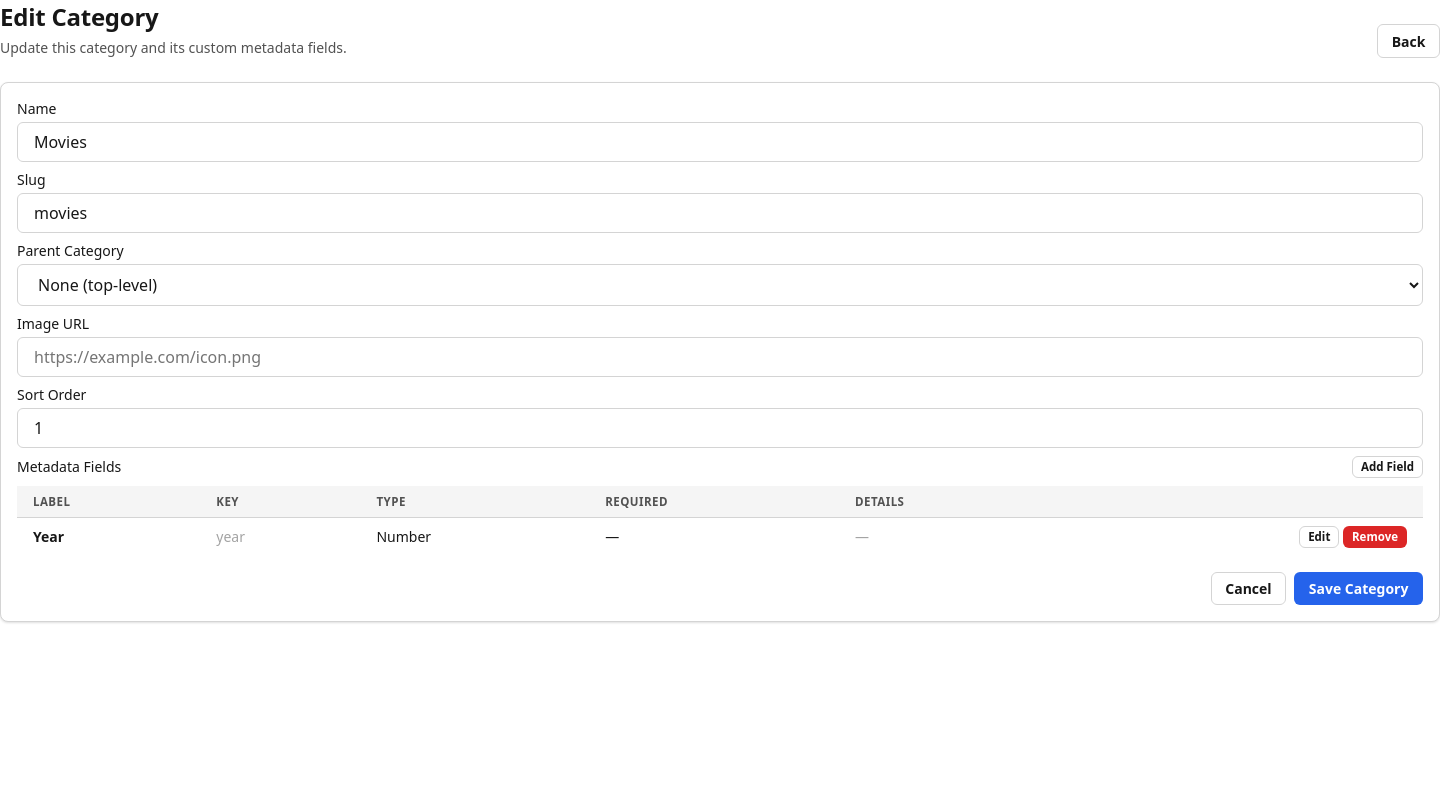
Test case: AdminCategoryEditPage › adds a metadata field and saves it via PUT
Expected: the field labelled "Name" holds "Movies", [17,122,1423,162]
Add a new field through the modal.
Click the button "Add Field": (1388, 467) [1352,456,1423,478]
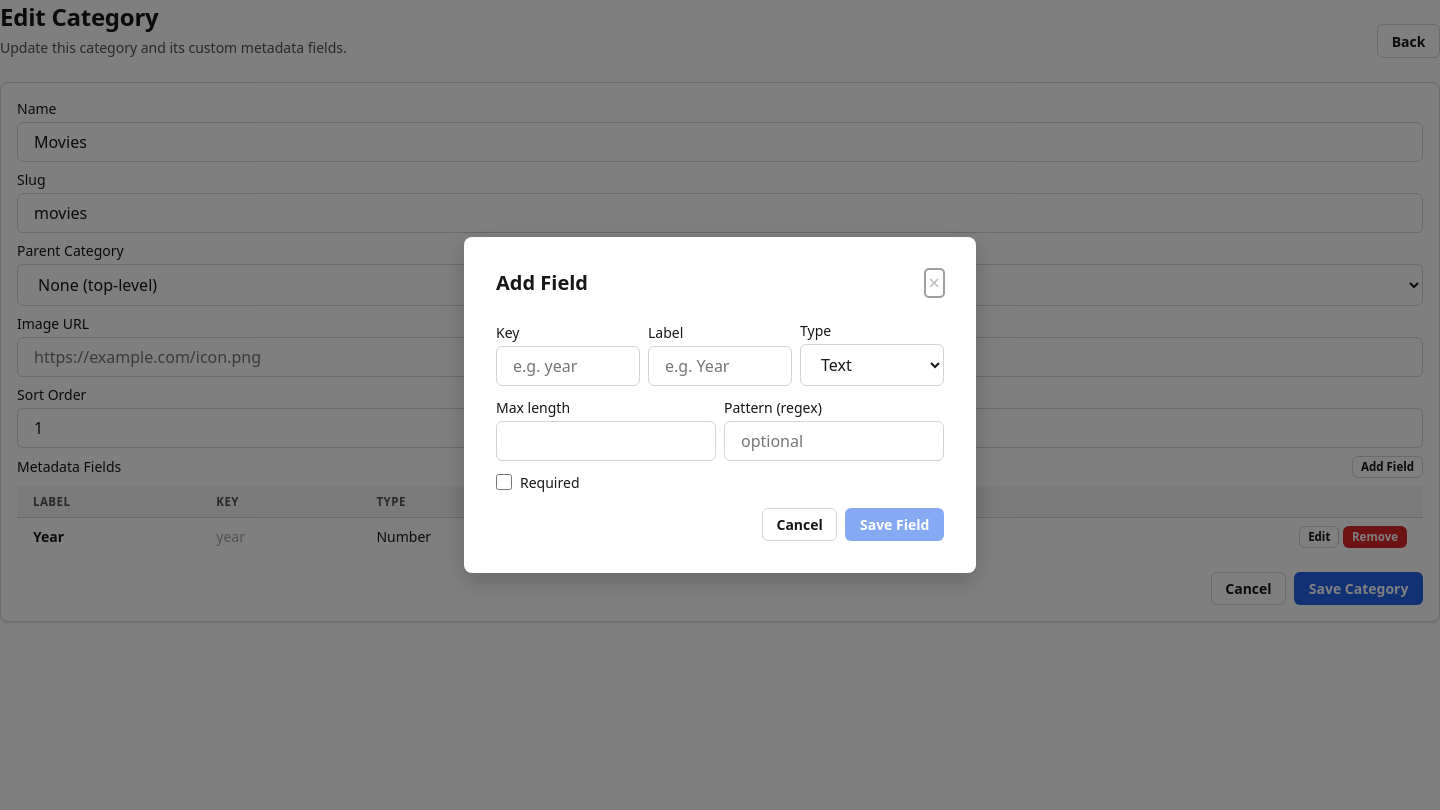
In the field labelled "Key": (568, 366) [496,346,640,386], type "codec"
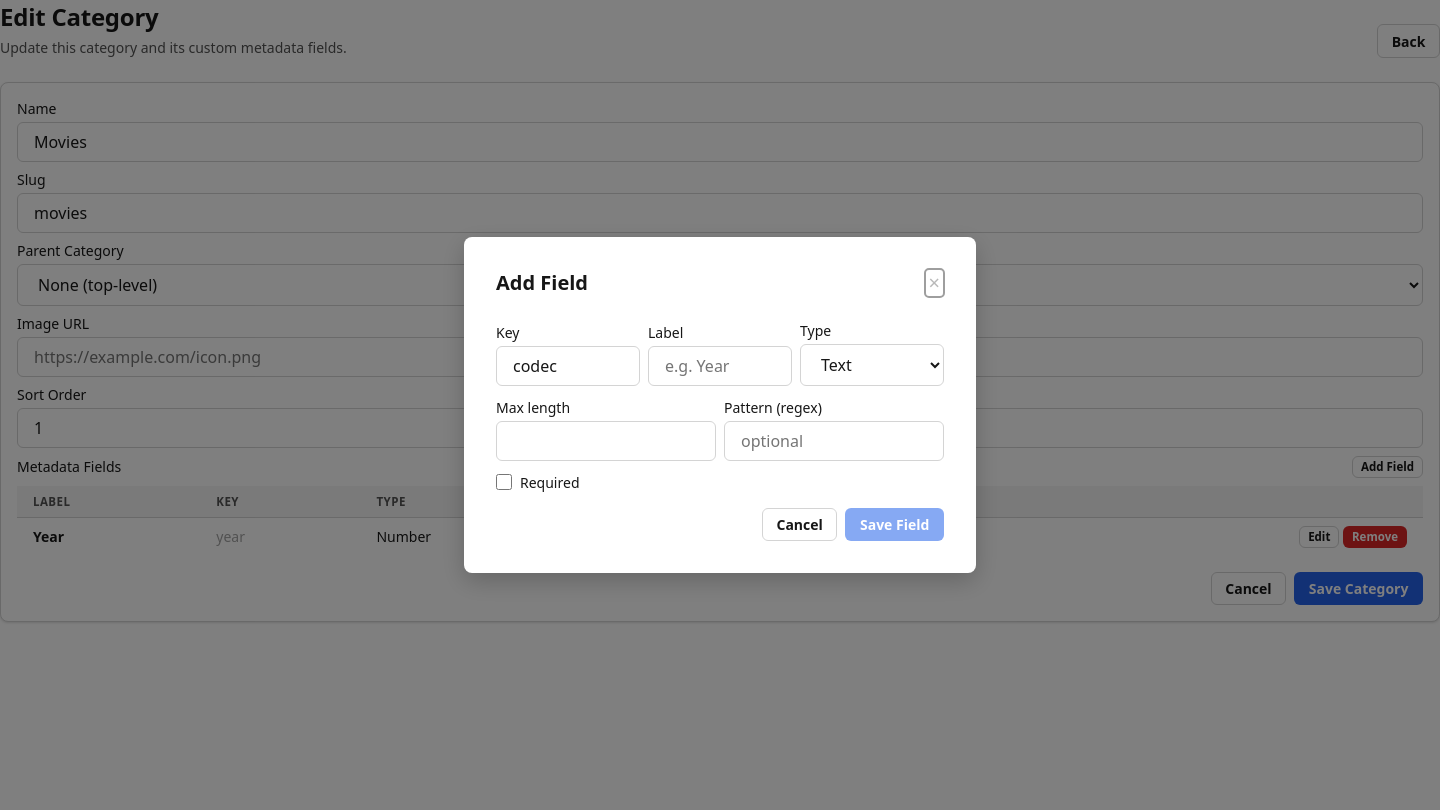
In the field labelled "Label": (720, 366) [648,346,792,386], type "Codec"
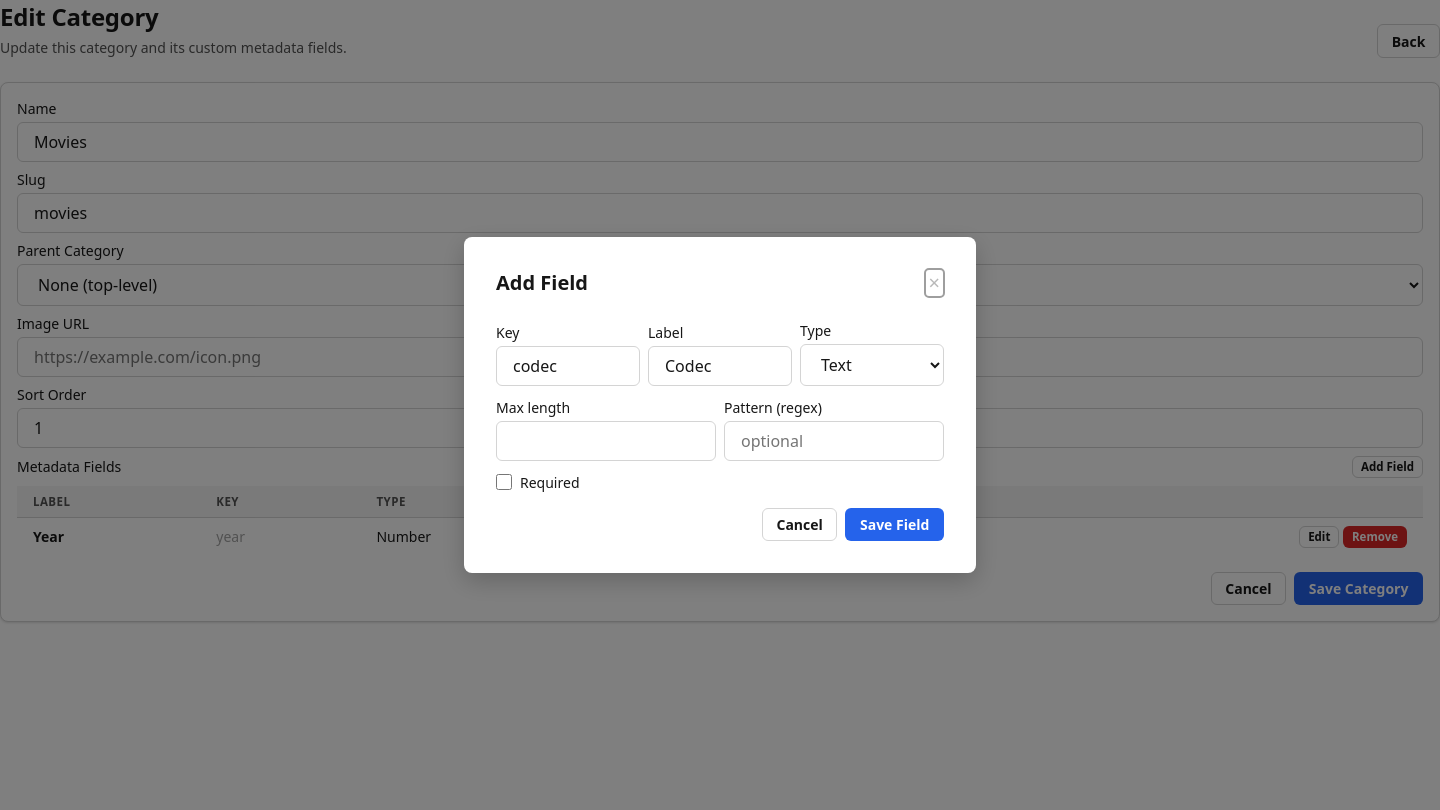
Click the button "Save Field": (895, 524) [845,508,944,541]
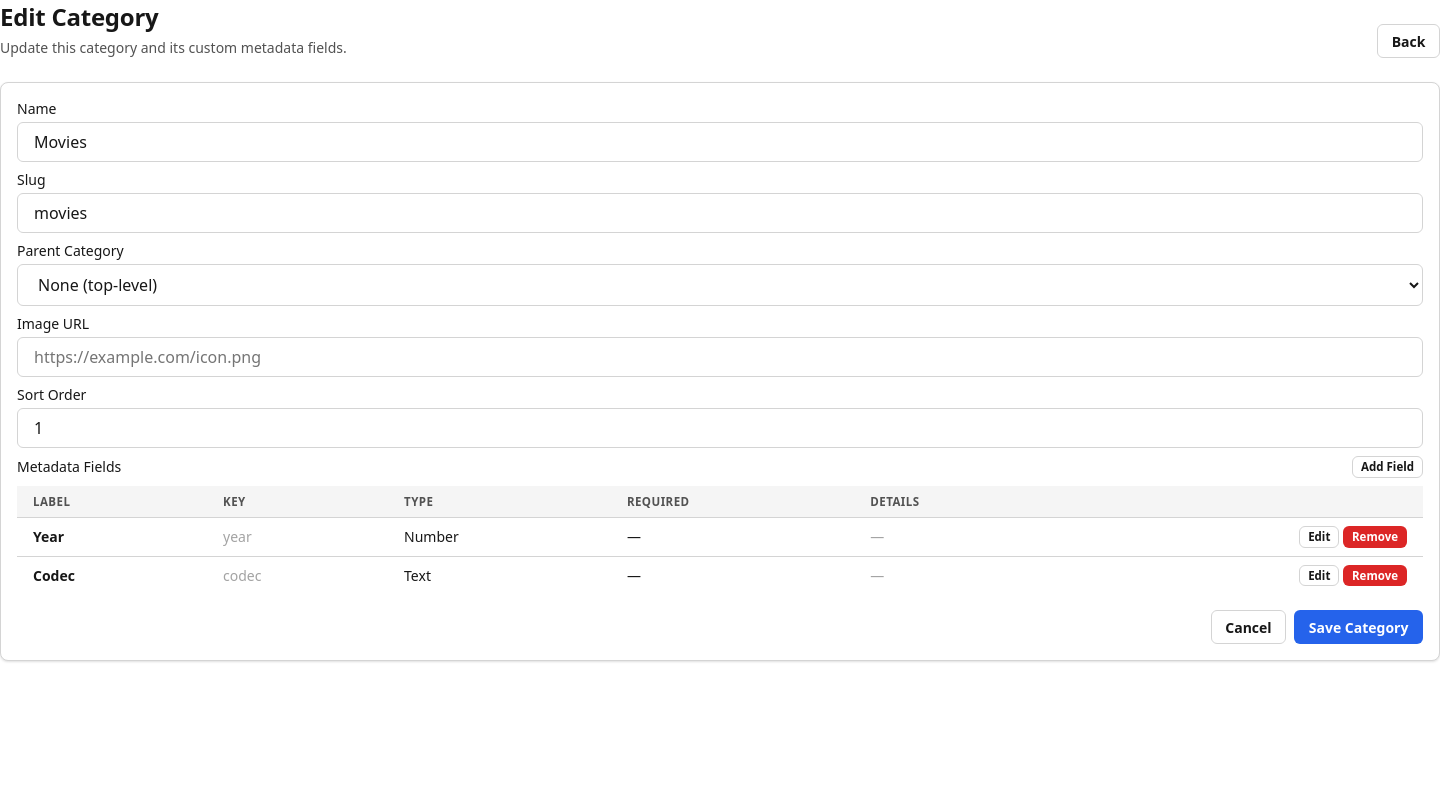
Expected: the number of rows with test id "field-row" is 2, [17,517,1423,556]; [17,556,1423,594]
Click the button "Save Category": (1359, 627) [1294,610,1423,644]
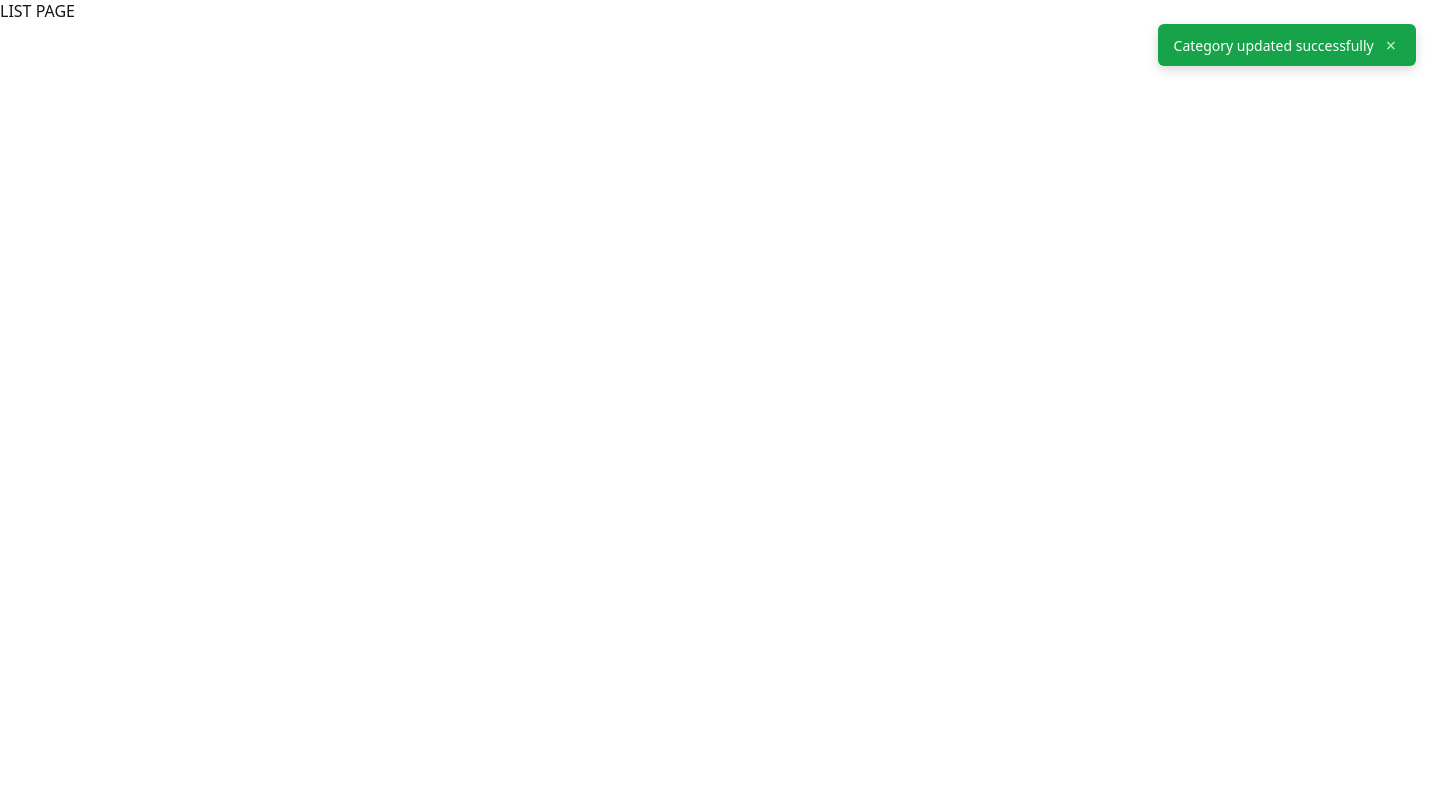
Expected: the text "LIST PAGE" is shown, [0,0,75,22]
